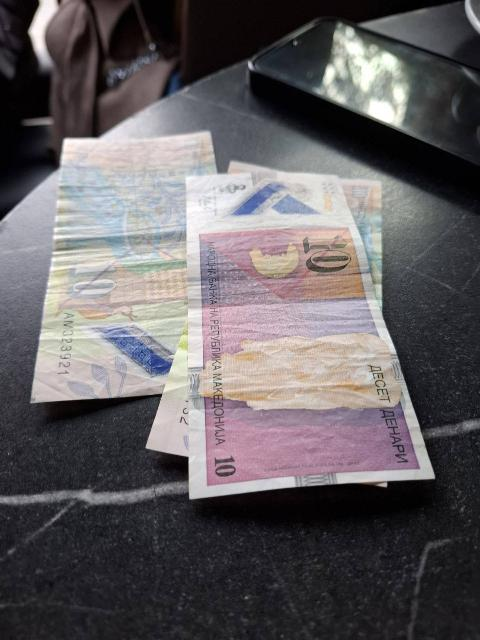10_note: (187, 177, 424, 486), (42, 123, 201, 396)
